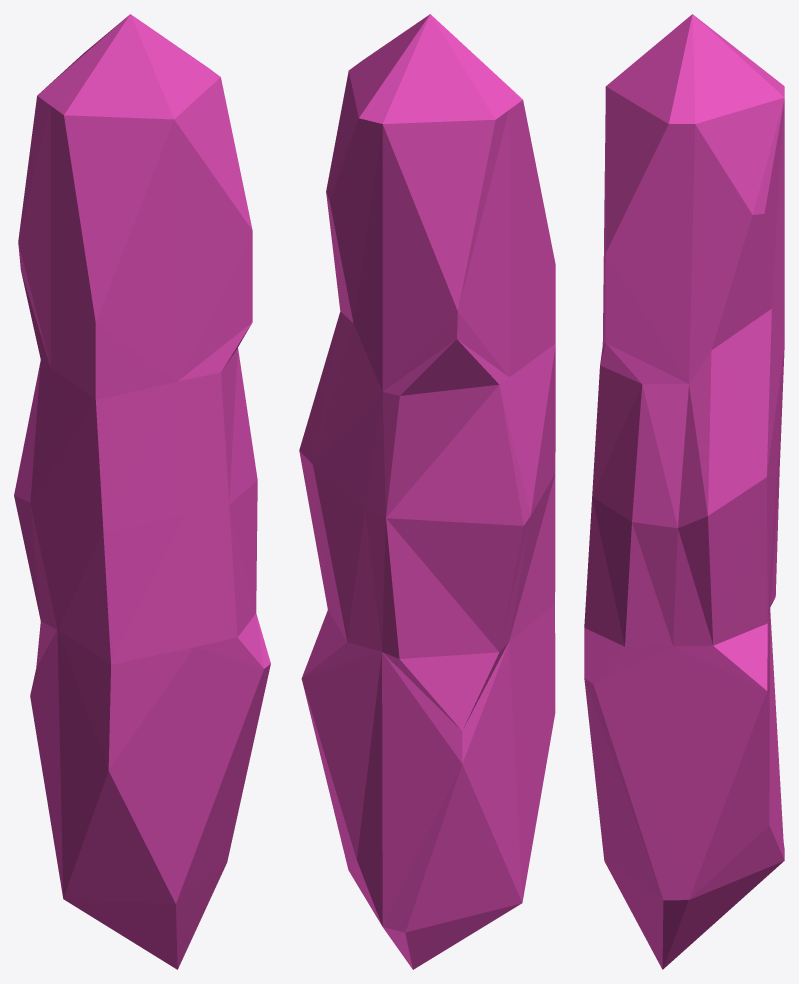
The model's file is SM_Crystal_A.fbx.
3 renders of one model, left to right at view 1: azimuth 30°, elevation 25°; view 2: azimuth 150°, elevation 25°; view 3: azimuth 270°, elevation 25°, orthographic. The views are drawn at different scales.
Visible parts, largest first — view 1: SM_Crystal_A; view 2: SM_Crystal_A; view 3: SM_Crystal_A.
Boxes of the visible parts, left/top/right/bottom form: SM_Crystal_A: left=14, top=14, right=270, bottom=969; SM_Crystal_A: left=299, top=14, right=555, bottom=969; SM_Crystal_A: left=584, top=14, right=784, bottom=969.
Bounding box in the file's own units: 19.94 × 81.01 × 15.65.
